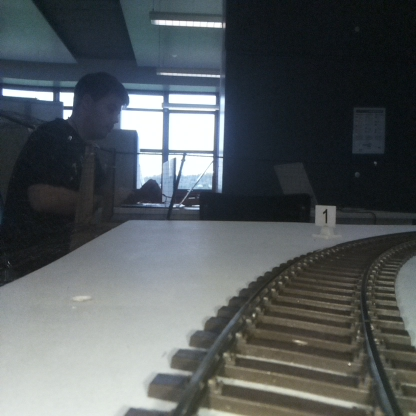white-stop-1: (315, 205, 335, 238)
